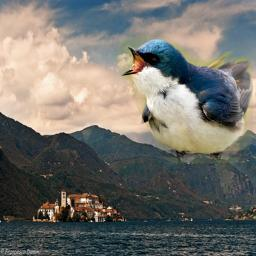Swallow: (117, 35, 253, 163)
